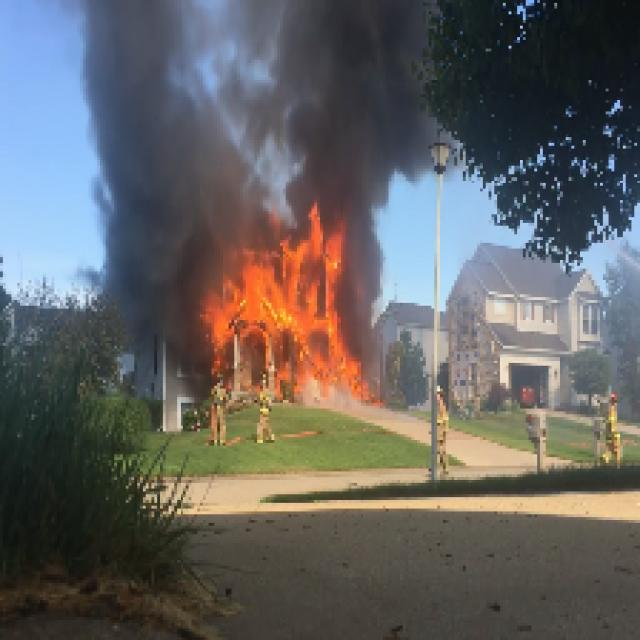fire: (209, 244, 350, 400)
smoke: (94, 0, 432, 206), (97, 212, 200, 351)
